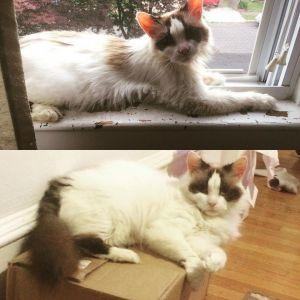ragdoll: (177, 150, 256, 228)
